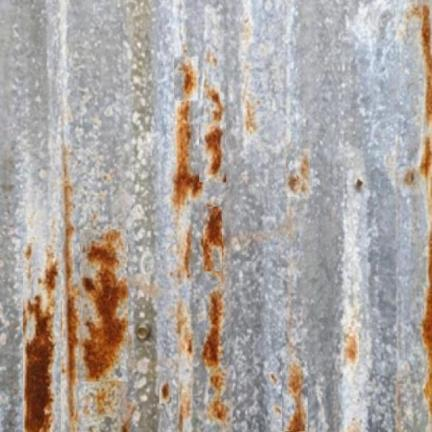karat: (412, 4, 431, 418), (80, 230, 128, 381), (201, 272, 227, 423), (25, 295, 53, 431), (173, 101, 201, 211), (201, 205, 223, 274), (284, 362, 306, 431), (203, 206, 223, 252), (205, 126, 222, 176), (43, 256, 57, 300)
